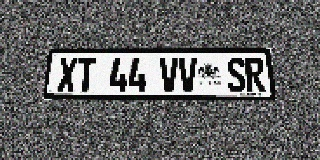4: (109, 58, 128, 92), (128, 58, 147, 92)
R: (245, 58, 266, 92)
S: (226, 58, 246, 92)
T: (76, 58, 96, 92)
V: (178, 58, 197, 92), (160, 58, 178, 92)
X: (57, 58, 78, 92)
